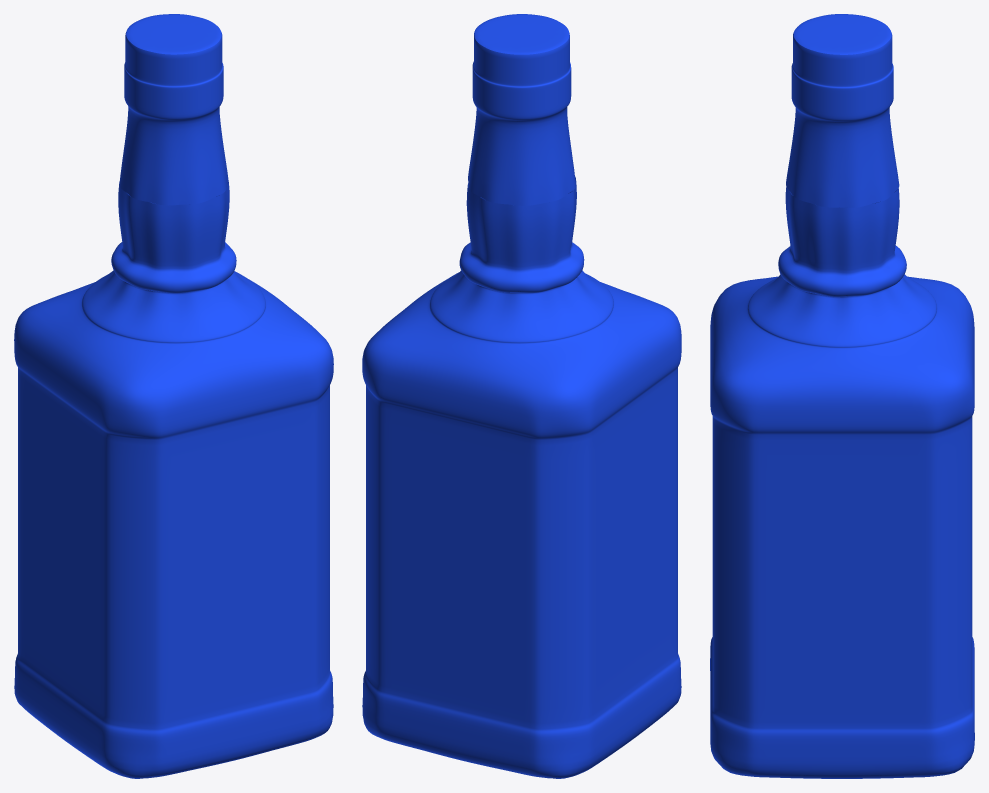
File: Whiskey3.FBX
The picture shows the model from 3 angles, left to right: view 1: azimuth 30°, elevation 25°; view 2: azimuth 150°, elevation 25°; view 3: azimuth 270°, elevation 25°; orthographic projection.
Parts seen in each view (by area): view 1: X001_001_liquor_jack_daniels001; view 2: X001_001_liquor_jack_daniels001; view 3: X001_001_liquor_jack_daniels001.
Part boxes in pixels (bbox=[...]): X001_001_liquor_jack_daniels001: bbox=[14, 14, 333, 778]; X001_001_liquor_jack_daniels001: bbox=[362, 14, 681, 778]; X001_001_liquor_jack_daniels001: bbox=[710, 14, 974, 778].
Size of the model in its own units: 0.0866 by 0.2488 by 0.0859.
